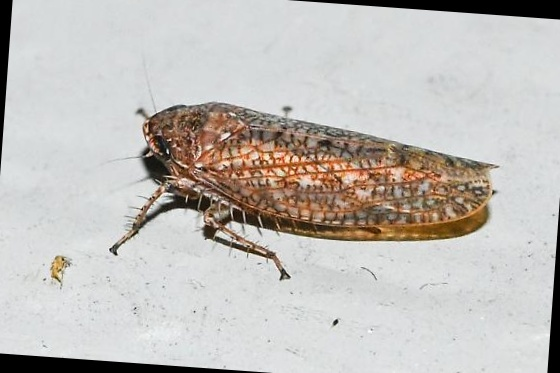Brown_hopper: (120, 88, 513, 302)
